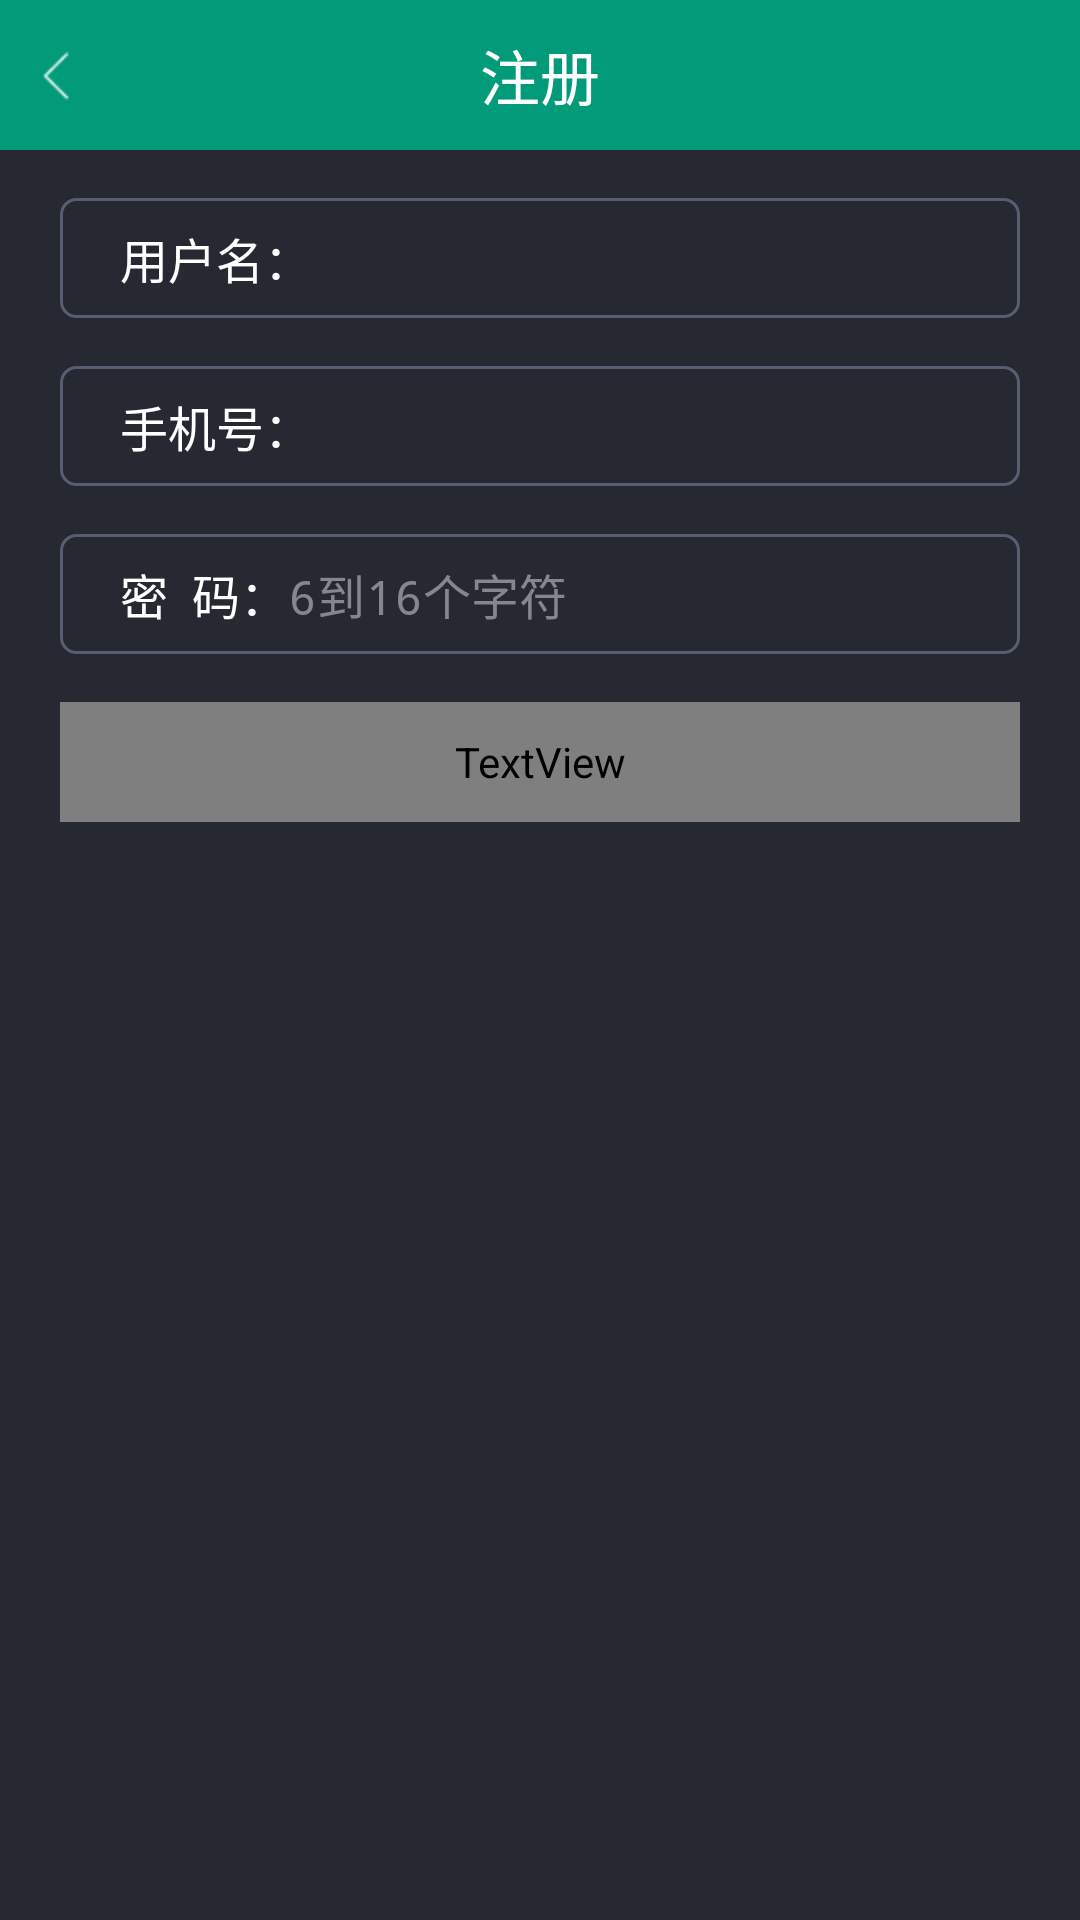

Point at icon controls on the screen. Image size 1080px×1920px, points as (x=x, y=y).
back: (x=56, y=76)
